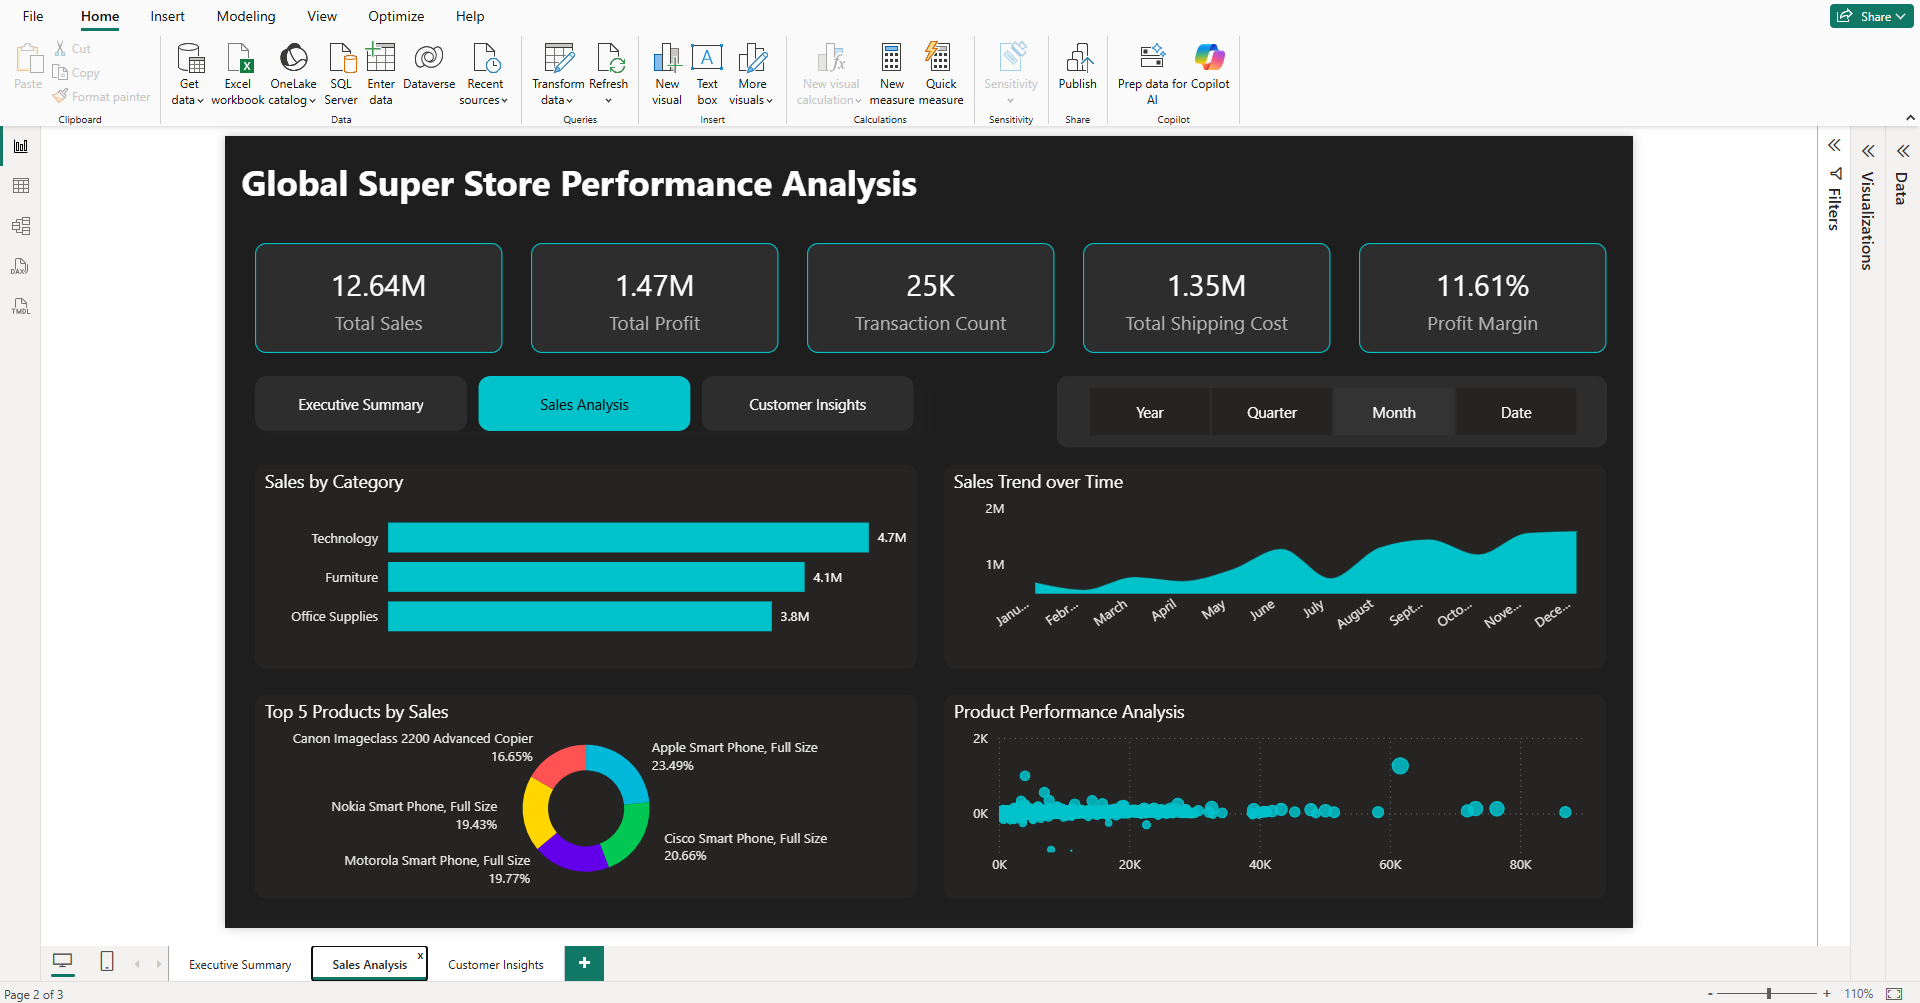

What the dashboard file says about the page in this screenshot:
{"tool":"powerbi","page":{"name":"Sales Analysis","canvas":[1280,720],"ordinal":1},"visuals":[{"type":"textbox","box":[10,14.2,625,60],"z":0},{"type":"clusteredBarChart","title":"Sales by Category","fields":{"Category":["vw_Dim_Products.Category"],"Y":["_Measures.Total Sales"]},"box":[27,299,602,185],"z":1000},{"type":"areaChart","title":"Sales Trend over Time","fields":{"Category":["Calendar.Month"],"Y":["_Measures.Total Sales"]},"box":[654,299,602,185],"z":2000},{"type":"card","fields":{"Values":["_Measures.Total Profit"]},"box":[278.1,97.5,225,100.1],"z":3000},{"type":"card","fields":{"Values":["_Measures.Transaction Count"]},"box":[529,97.5,225,100.1],"z":4000},{"type":"card","fields":{"Values":["_Measures.Total Shipping Cost"]},"box":[779.9,97.5,225,100.1],"z":5000},{"type":"card","fields":{"Values":["_Measures.Profit Margin"]},"box":[1030.8,97.5,225,100.1],"z":6000},{"type":"slicer","fields":{"Values":["Date Granularity.Date Granularity"]},"box":[756,218,500,65],"z":7000},{"type":"donutChart","title":"Top 5 Products by Sales","fields":{"Category":["vw_Dim_Products.ProductName"],"Y":["_Measures.Total Sales"]},"box":[27,508,602,185],"z":8000},{"type":"pageNavigator","box":[27.2,217.8,599.7,50],"z":9000},{"type":"card","fields":{"Values":["_Measures.Total Sales"]},"box":[27.2,97.5,225,100.1],"z":10000},{"type":"scatterChart","title":"Product Performance Analysis","fields":{"X":["_Measures.Total Sales"],"Y":["_Measures.Profit per Unit"],"Size":["_Measures.Total Profit"],"Category":["vw_Dim_Products.ProductName"]},"box":[654,508,602,185],"z":11000}]}

Visuals, with their boxes on the page's 1280x720 design canvas (x1, y1, x2, y2). These are canvas units, not pixel positions in the 1920x1003 screenshot, which may show the page scaled, cropped or inside an application window:
textbox: pyautogui.locateOnScreen(10, 14, 635, 74)
"Sales by Category" clusteredBarChart: pyautogui.locateOnScreen(27, 299, 629, 484)
"Sales Trend over Time" areaChart: pyautogui.locateOnScreen(654, 299, 1256, 484)
card - _Measures.Total Profit: pyautogui.locateOnScreen(278, 98, 503, 198)
card - _Measures.Transaction Count: pyautogui.locateOnScreen(529, 98, 754, 198)
card - _Measures.Total Shipping Cost: pyautogui.locateOnScreen(780, 98, 1005, 198)
card - _Measures.Profit Margin: pyautogui.locateOnScreen(1031, 98, 1256, 198)
slicer - Date Granularity.Date Granularity: pyautogui.locateOnScreen(756, 218, 1256, 283)
"Top 5 Products by Sales" donutChart: pyautogui.locateOnScreen(27, 508, 629, 693)
pageNavigator: pyautogui.locateOnScreen(27, 218, 627, 268)
card - _Measures.Total Sales: pyautogui.locateOnScreen(27, 98, 252, 198)
"Product Performance Analysis" scatterChart: pyautogui.locateOnScreen(654, 508, 1256, 693)
